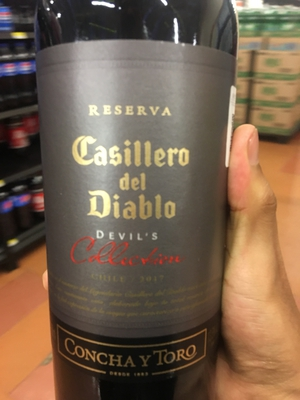casillero del diablo devils collection rojo: (31, 6, 236, 400)
